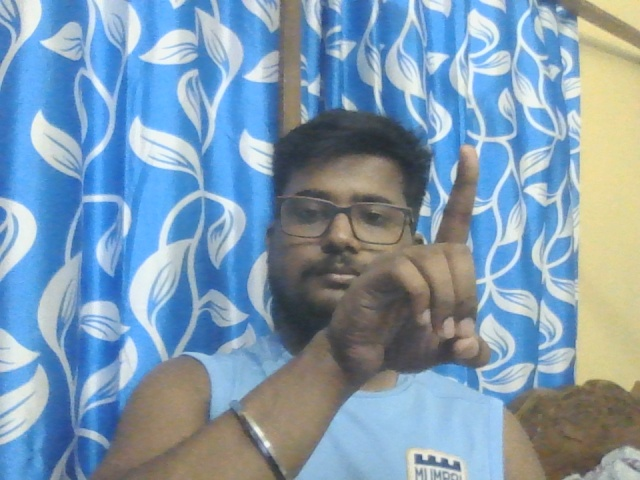D: (333, 143, 490, 375)
